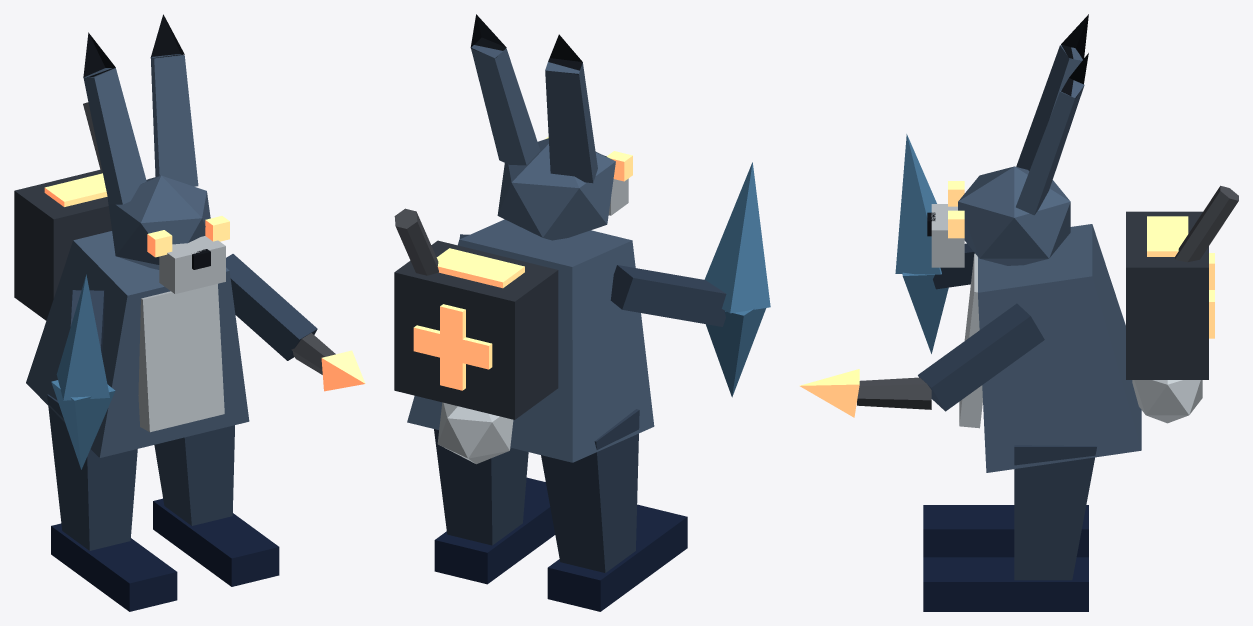
The model's file is repairer.glb.
3 renders of one model, left to right at view 1: azimuth 30°, elevation 25°; view 2: azimuth 150°, elevation 25°; view 3: azimuth 270°, elevation 25°, orthographic. The views are drawn at different scales.
Visible parts, largest first — view 1: IRepairerHull, IRepairerGlow; view 2: IRepairerHull, IRepairerGlow; view 3: IRepairerHull, IRepairerGlow.
Boxes of the visible parts, box(x1,y1,x2,y2) form: IRepairerHull: box(14, 14, 335, 611); IRepairerGlow: box(44, 173, 365, 391); IRepairerHull: box(394, 14, 770, 611); IRepairerGlow: box(413, 136, 632, 390); IRepairerHull: box(857, 14, 1238, 611); IRepairerGlow: box(799, 181, 1214, 417).
Bounding box in the file's own units: 0.7727 × 1.44 × 1.06.
